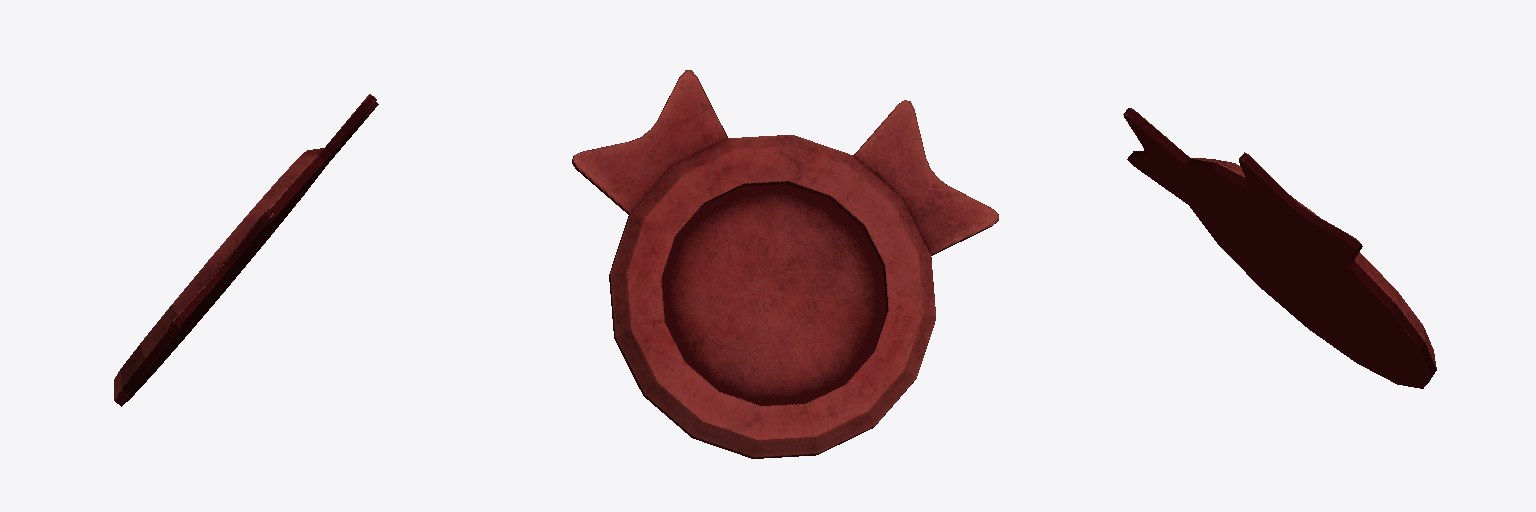
The picture shows the model from 3 angles: view 1: azimuth 30°, elevation 25°; view 2: azimuth 150°, elevation 25°; view 3: azimuth 270°, elevation 25°; orthographic projection.
Visible parts, largest first — view 1: dynamic; view 2: dynamic; view 3: dynamic.
Boxes of the visible parts, x1,y1,x2,y2 form: dynamic: [114, 94, 378, 406]; dynamic: [572, 70, 998, 458]; dynamic: [1123, 108, 1436, 388].
Bounding box in the file's own units: 25.01 × 22.56 × 21.38.
Materials: 1 (1 with a texture image).